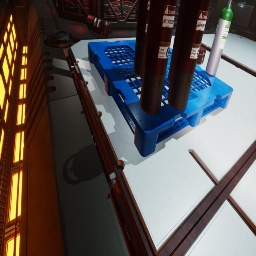0: (206, 0, 233, 76)
FirstAidBox ,: (197, 46, 206, 65)
NitrogenTank ,: (167, 0, 211, 111), (140, 0, 177, 116), (168, 0, 184, 84), (134, 0, 150, 77), (86, 15, 112, 37)
